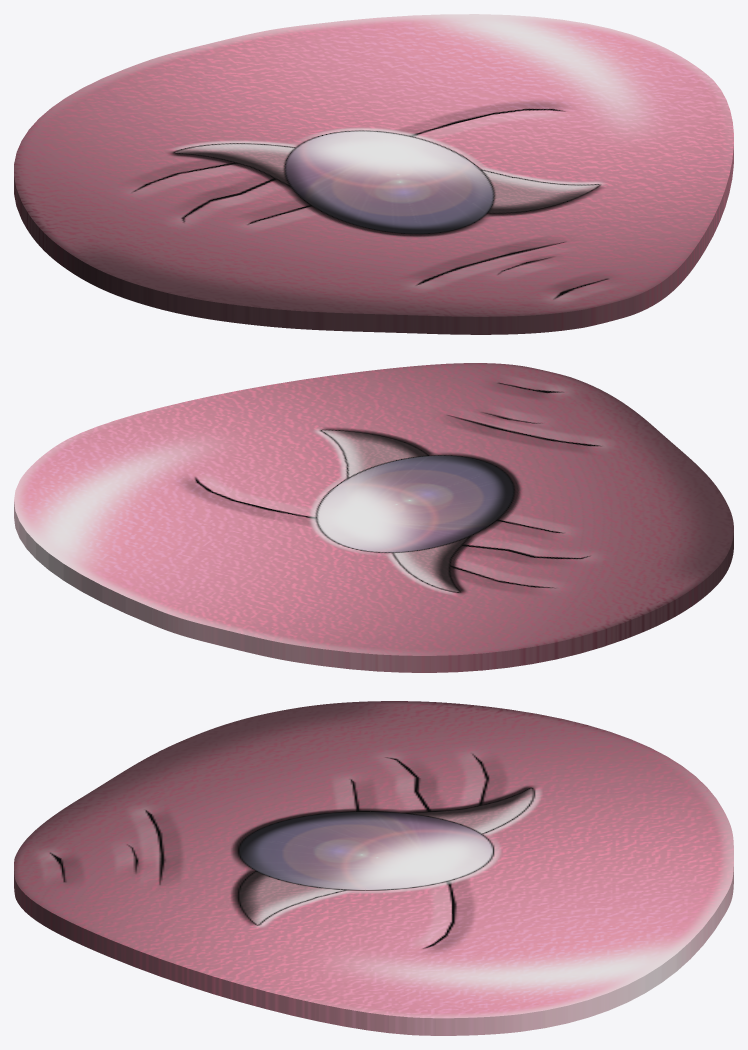
3 views of the same model, one above another, from view 1: azimuth 30°, elevation 25°; view 2: azimuth 150°, elevation 25°; view 3: azimuth 270°, elevation 25° (orthographic). The views are drawn at different scales.
Visible parts, largest first — view 1: path1587; view 2: path1587; view 3: path1587.
Part boxes in pixels (bbox=[...]): path1587: bbox=[14, 14, 733, 334]; path1587: bbox=[14, 363, 733, 672]; path1587: bbox=[14, 701, 733, 1035].
Size of the model in its own units: 76.84 by 2 by 73.71.
Materials: 1 (1 with a texture image).
